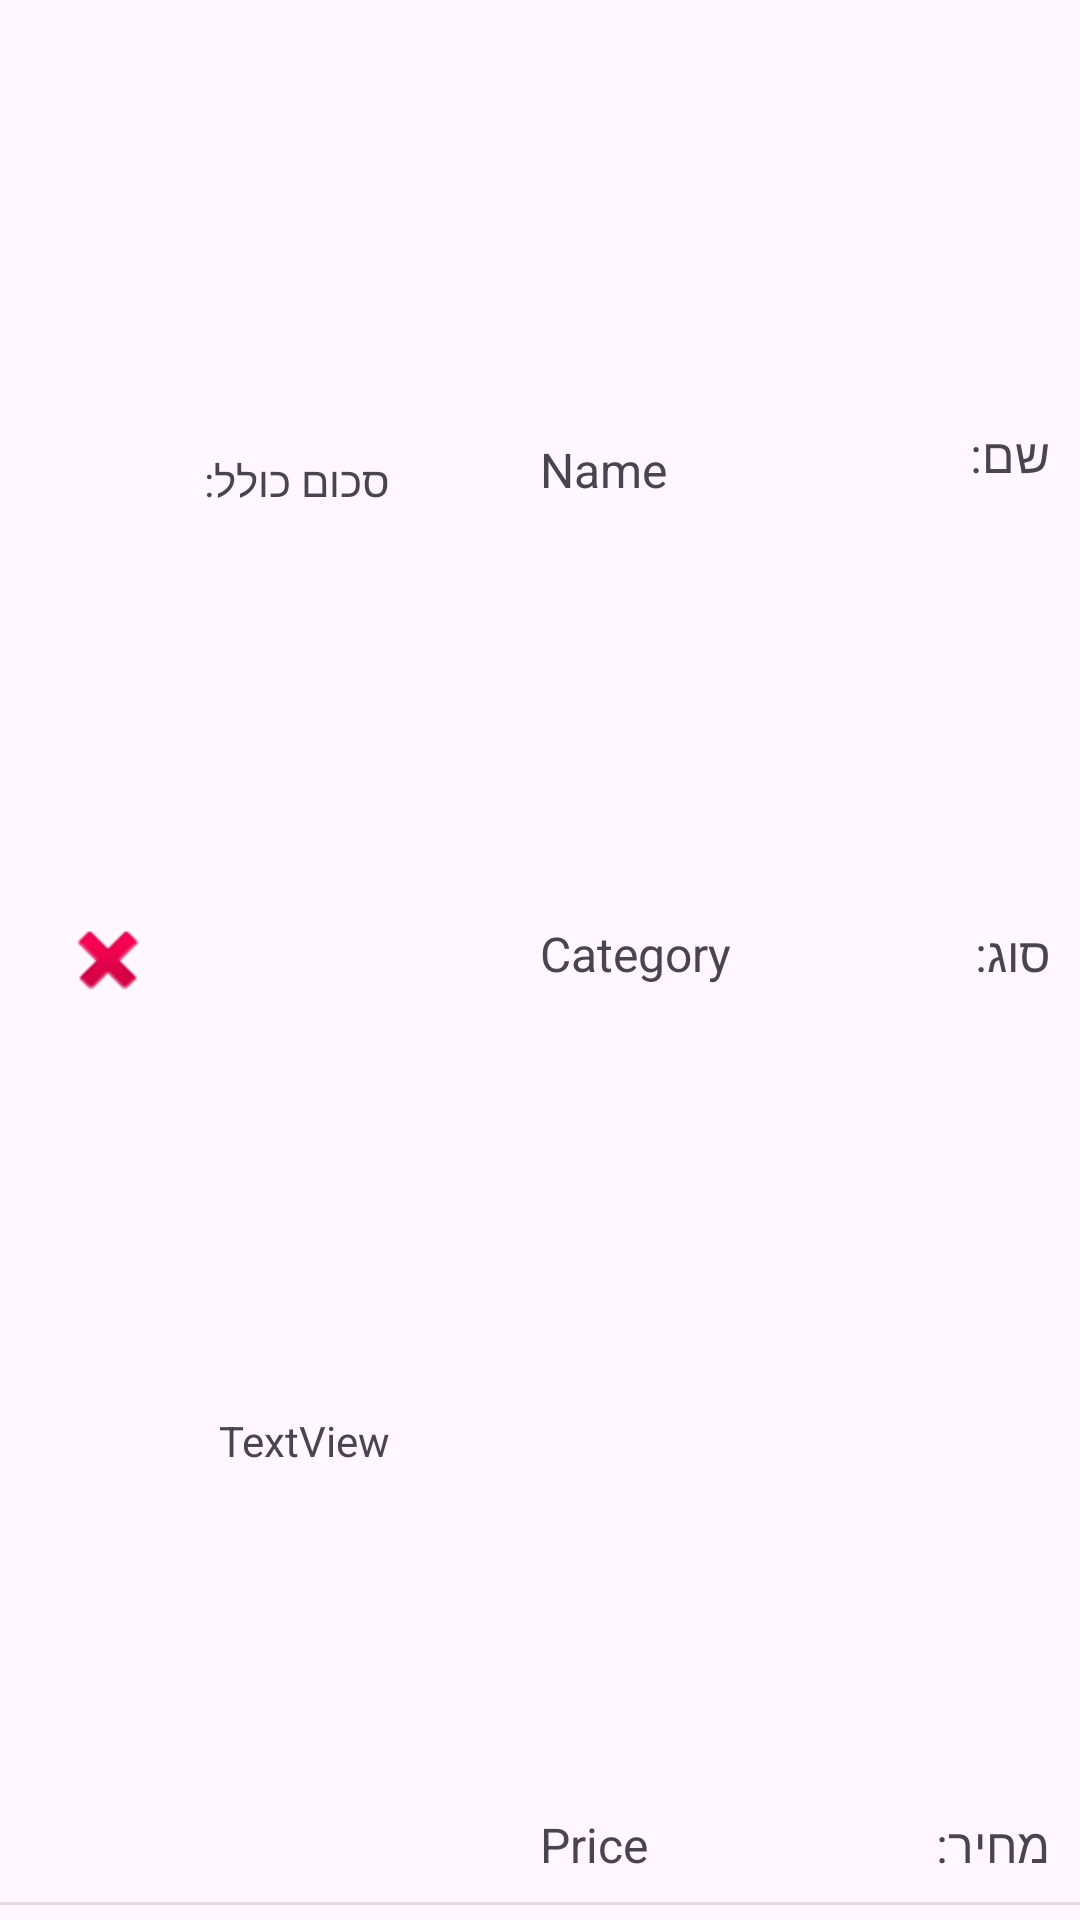

Screen size 1080px x 1920px. Icon name, then its center in pixels as (x,y):
delete: (108,960)
